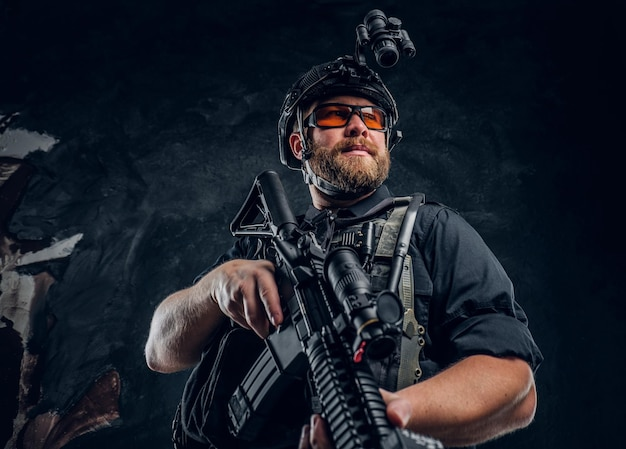gun: (224, 171, 444, 449)
